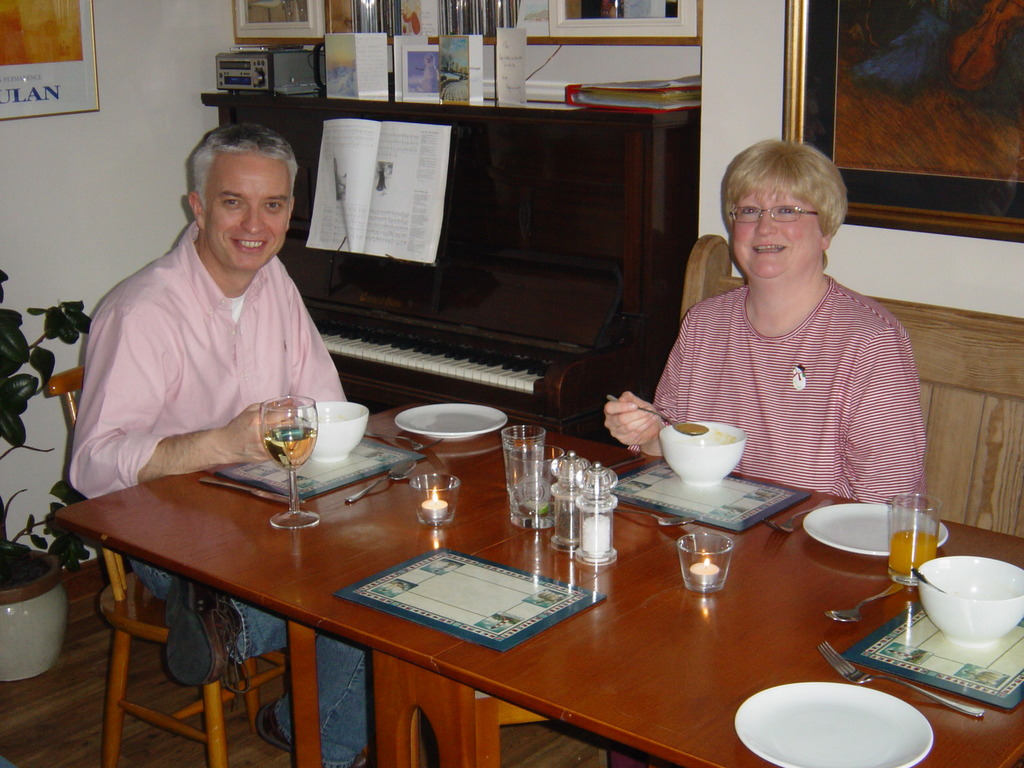plate: (714, 679, 934, 757), (394, 402, 506, 435)
